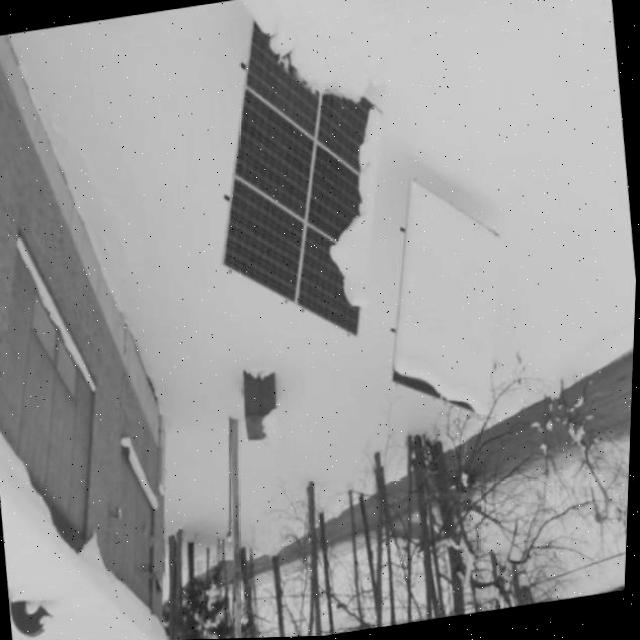Anomaly Solar Panel: (226, 20, 387, 337), (395, 181, 505, 418)
Snow: (395, 182, 503, 418), (329, 107, 384, 311), (252, 17, 371, 108)
